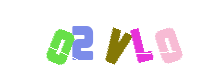2: (42, 0, 122, 80)
L: (77, 0, 157, 80)
O: (22, 0, 102, 80), (99, 0, 179, 80)
V: (69, 0, 149, 80)
